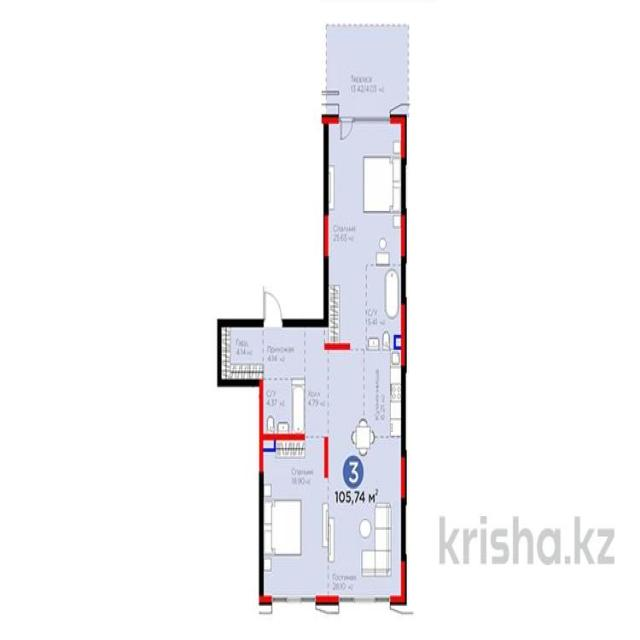balcony: (326, 25, 409, 122)
bathroom: (366, 268, 406, 347), (260, 379, 307, 438)
hallway: (261, 324, 306, 380), (306, 319, 326, 438)
living_room: (326, 117, 406, 266), (261, 439, 327, 599)
other: (218, 322, 262, 386)
studio: (327, 346, 403, 601)
